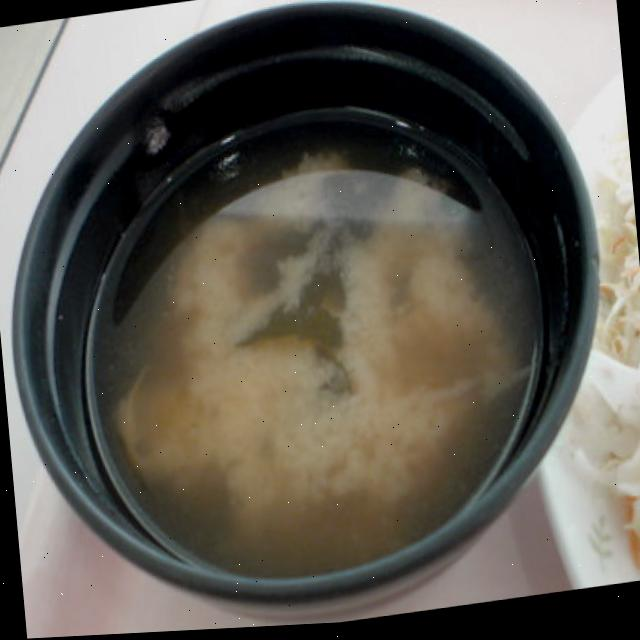汤锅炖物: (0, 0, 615, 616)
